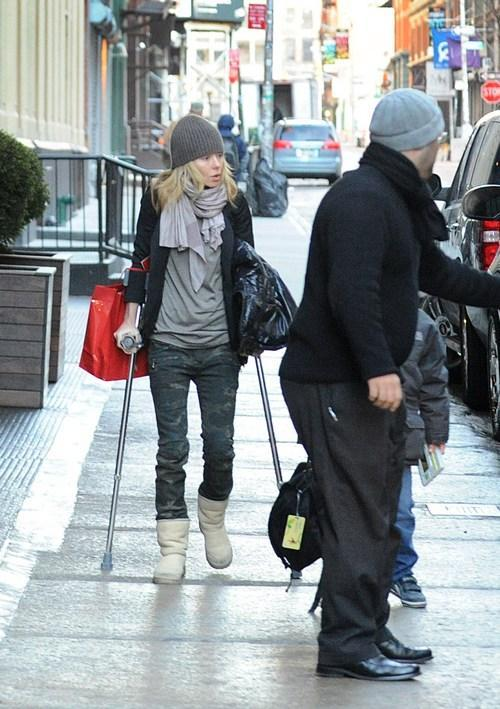crutches: (89, 102, 311, 636)
